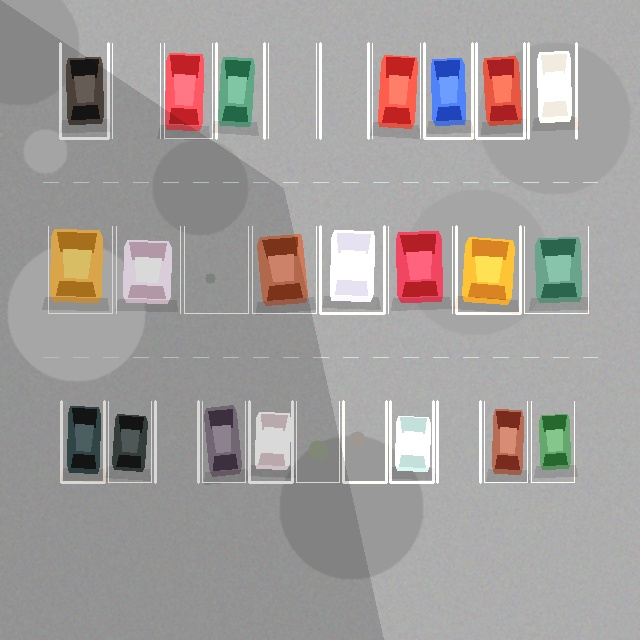space-empty: (184, 226, 248, 313), (112, 43, 160, 138), (268, 43, 316, 138), (320, 43, 368, 138), (155, 401, 198, 482), (296, 401, 339, 482), (343, 401, 386, 482), (437, 401, 480, 482)
space-occupied: (48, 226, 112, 313), (116, 226, 180, 313), (252, 226, 316, 313), (320, 226, 384, 313), (388, 226, 452, 313), (456, 226, 520, 313), (524, 226, 588, 313), (60, 43, 108, 138), (164, 43, 212, 138), (216, 43, 264, 138), (372, 43, 420, 138), (424, 43, 472, 138), (476, 43, 524, 138), (528, 43, 576, 138), (61, 401, 104, 482), (108, 401, 151, 482), (202, 401, 245, 482), (249, 401, 292, 482), (390, 401, 433, 482), (484, 401, 527, 482), (531, 401, 574, 482)
